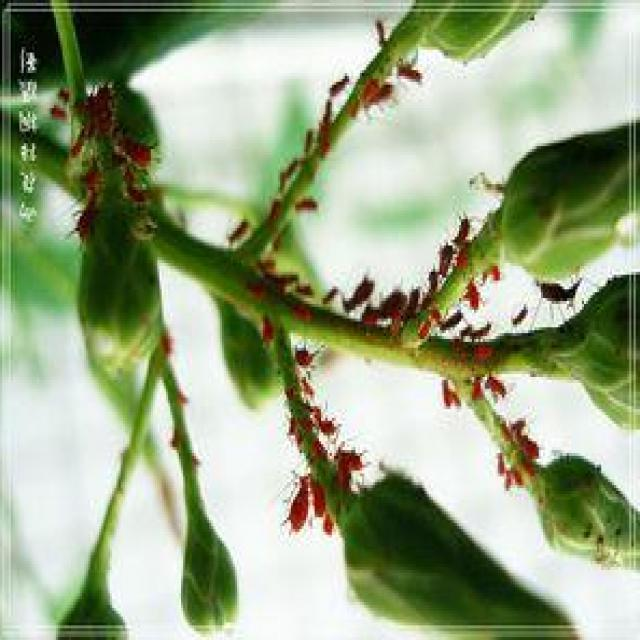aphid: (224, 19, 585, 525), (36, 64, 160, 241)
